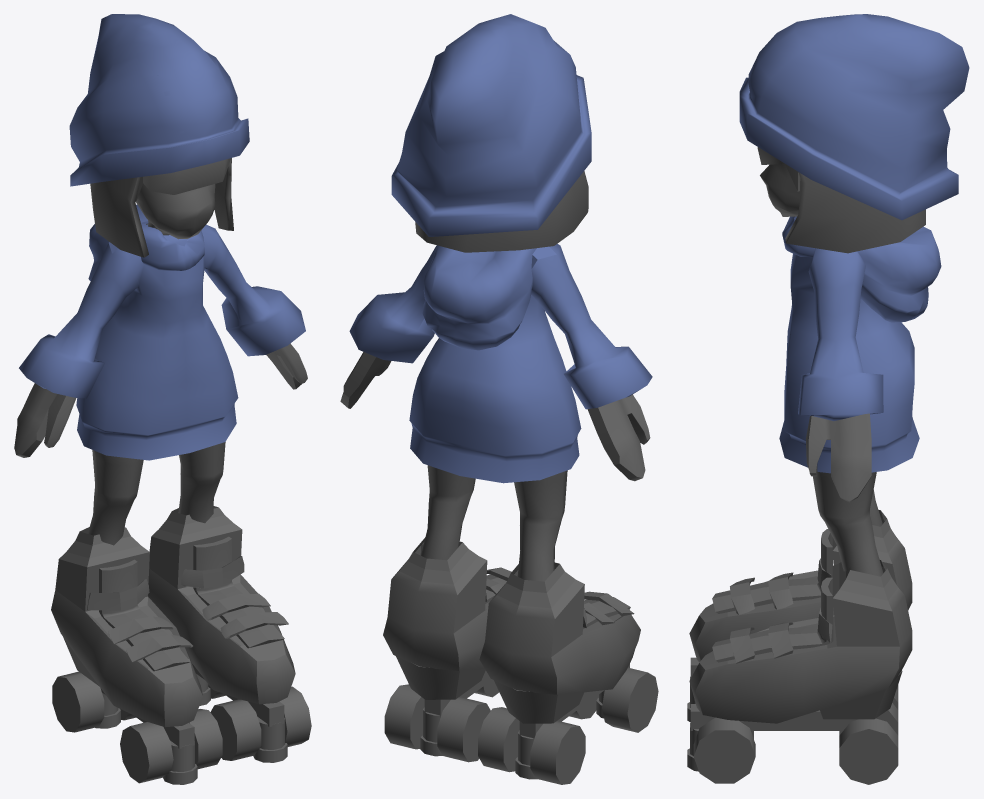
Rendered from Chara_Fille_Splagora5.fbx.
The picture shows the model from 3 angles, left to right: view 1: azimuth 30°, elevation 25°; view 2: azimuth 150°, elevation 25°; view 3: azimuth 270°, elevation 25°; orthographic projection. The views are drawn at different scales.
Visible parts, largest first — view 1: Fille; view 2: Fille; view 3: Fille.
Part boxes in pixels (bbox=[...]): Fille: bbox=[14, 14, 311, 784]; Fille: bbox=[340, 14, 658, 784]; Fille: bbox=[687, 14, 969, 784].
Bounding box in the file's own units: 0.7836 × 0.6377 × 1.82.
